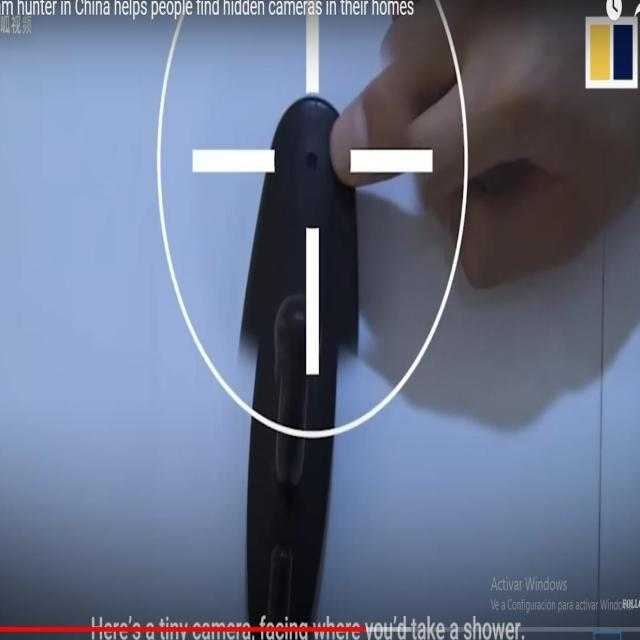hidden camera: (294, 127, 329, 199)
